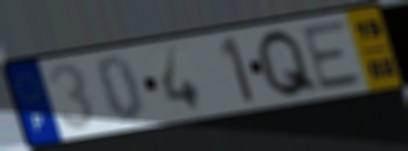0: (96, 52, 147, 125)
1: (218, 34, 259, 105)
3: (46, 59, 99, 134)
4: (163, 44, 206, 114)
E: (299, 17, 368, 94)
Q: (254, 27, 324, 100)
